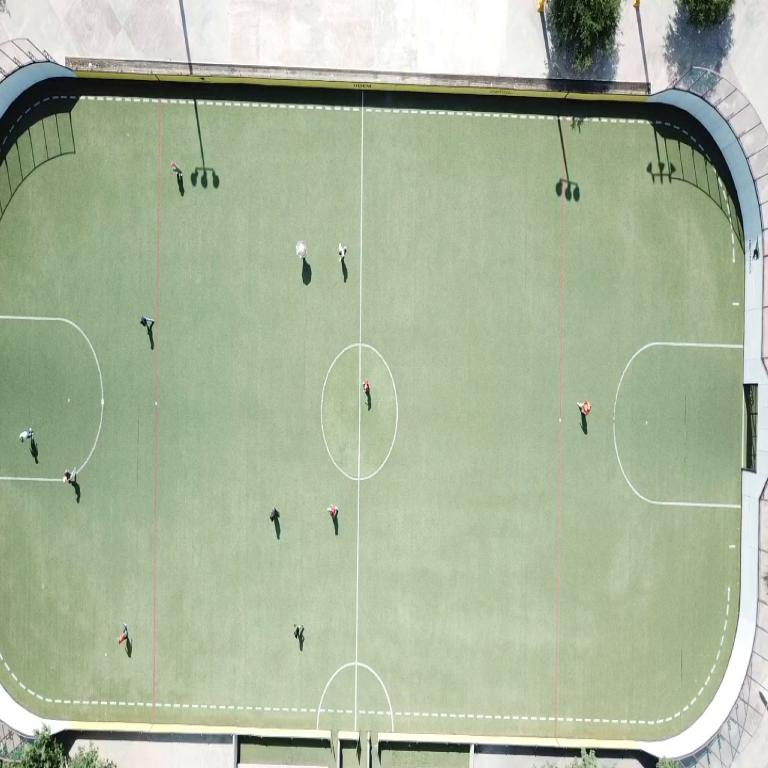AC: (0, 315, 104, 470), (614, 423, 740, 508), (625, 342, 740, 370), (0, 476, 55, 480), (616, 377, 622, 399)
B: (62, 477, 68, 482)
MC: (354, 93, 364, 730)
P: (170, 161, 194, 178), (118, 623, 128, 644), (63, 468, 76, 484), (578, 400, 590, 417), (140, 316, 154, 330), (20, 428, 34, 442), (296, 240, 305, 260), (294, 624, 304, 641), (328, 505, 338, 519), (270, 507, 279, 522), (339, 245, 346, 262), (364, 380, 369, 391)
